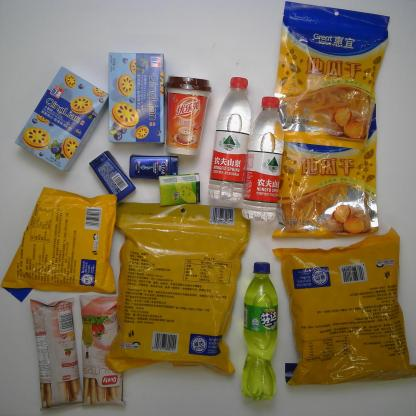Dessert: (13, 63, 110, 175), (29, 296, 84, 414), (106, 50, 168, 145), (78, 293, 129, 408)
Dried Food: (100, 197, 256, 376), (271, 228, 416, 387)
Dried Fruit: (263, 0, 392, 153), (266, 90, 382, 245), (0, 185, 117, 302)
Drink: (235, 260, 280, 406), (238, 93, 287, 222), (206, 74, 254, 205)
Instant Drink: (162, 73, 216, 157)
Personal Hygiene: (87, 149, 137, 204), (128, 151, 179, 182)
Tissue: (158, 170, 202, 208)
